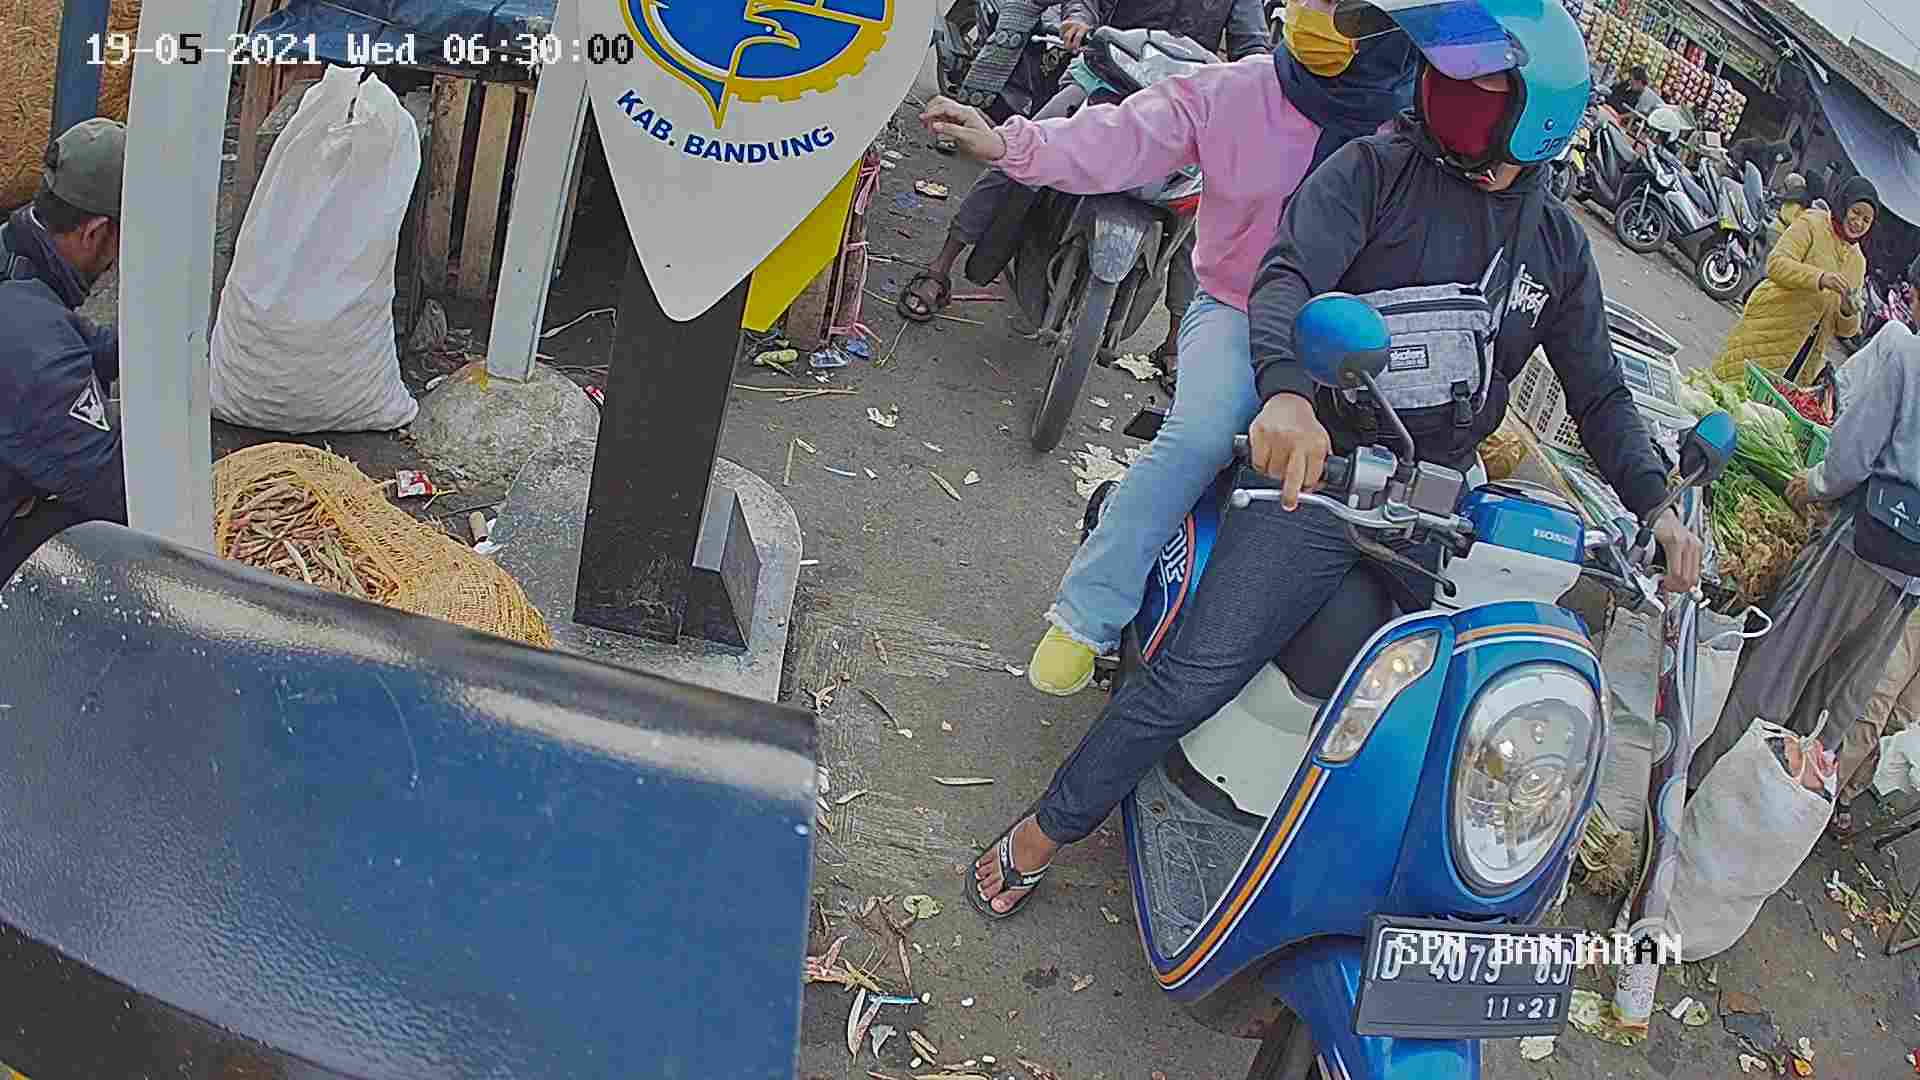motor: (1058, 353, 1592, 1080)
